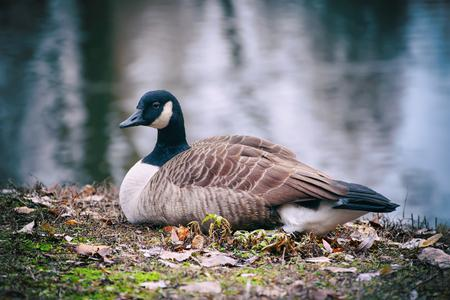Canadian-Goose: (117, 88, 397, 240)
